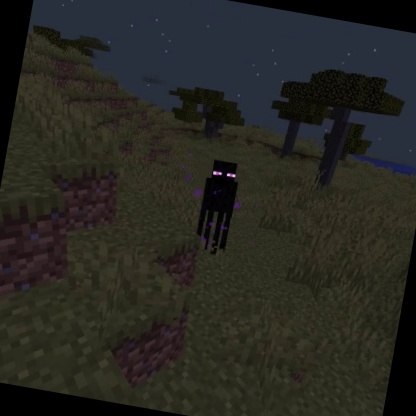enderman: (190, 154, 246, 258)
